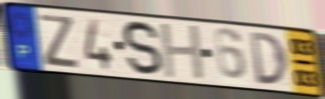4: (83, 16, 115, 72)
6: (214, 25, 249, 87)
D: (247, 30, 290, 87)
H: (158, 23, 208, 81)
S: (120, 19, 164, 78)
Z: (38, 12, 80, 70)
